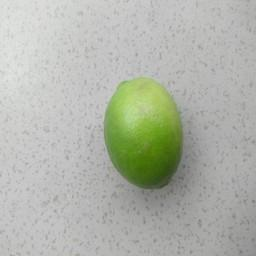Good_lime: (100, 68, 190, 192)
